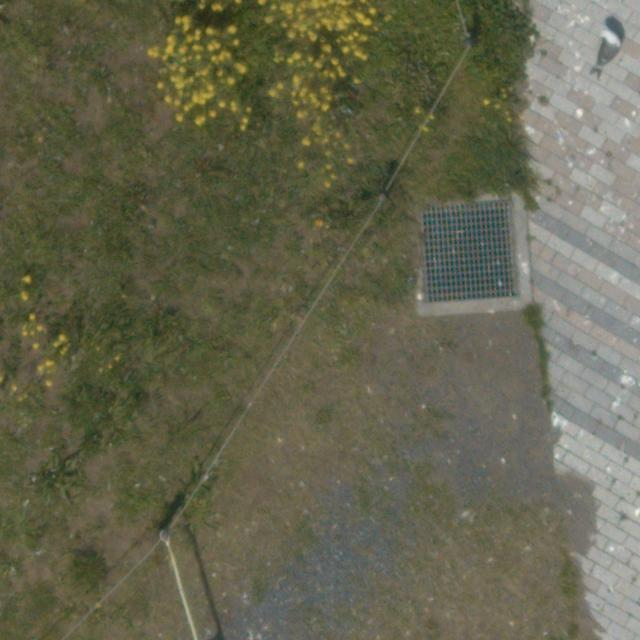umineko: (596, 26, 619, 70)
